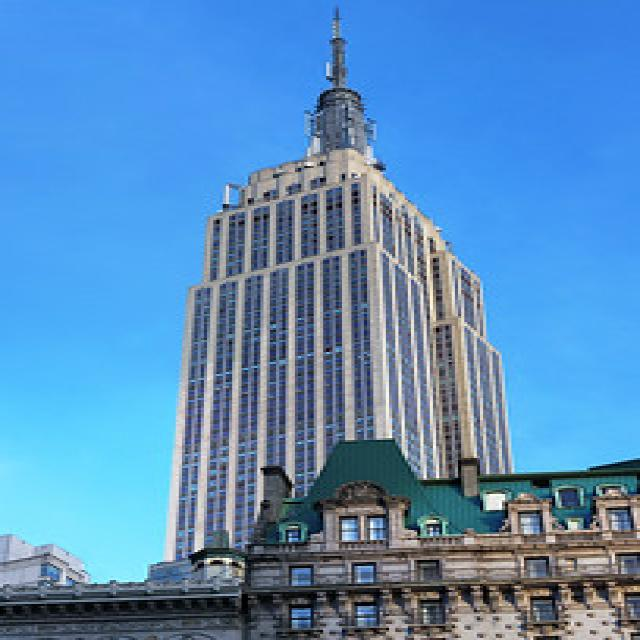building: (157, 149, 514, 583)
